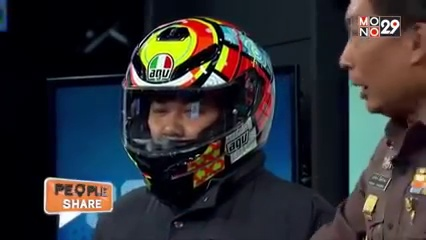helmet: (116, 26, 290, 201)
